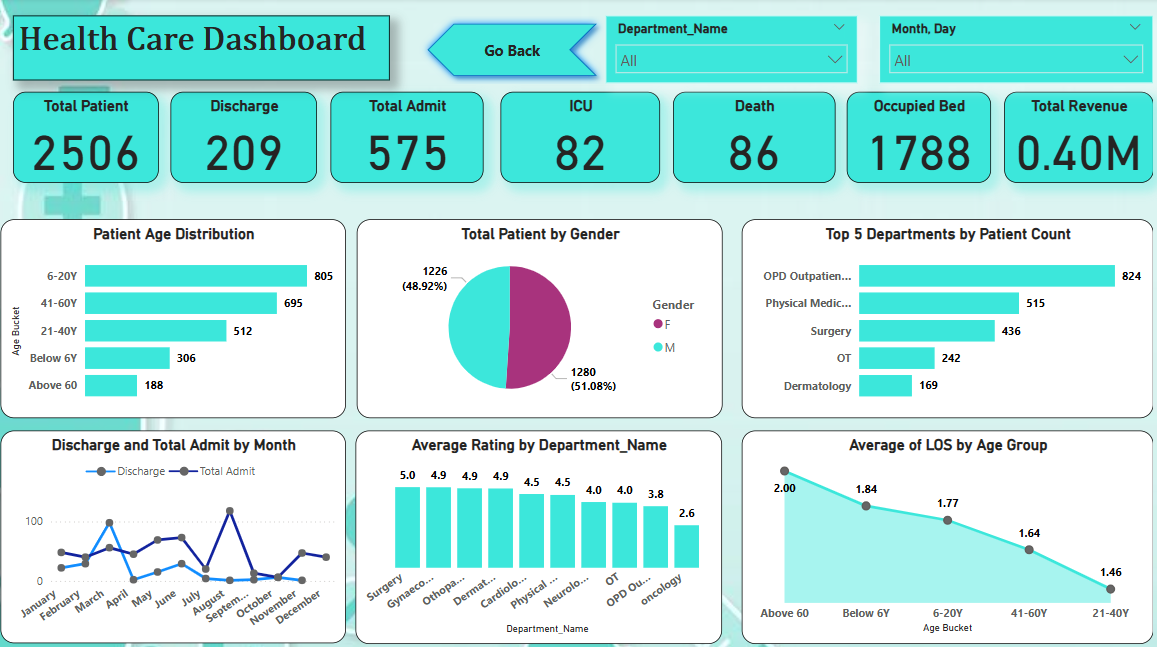

This screenshot's page, from the dashboard's own definition file:
{"tool":"powerbi","page":{"name":"Patient Summary","canvas":[1280,720],"ordinal":1},"visuals":[{"type":"card","title":"Total Patient","fields":{"Values":["All measures.Total Patient"]},"box":[17.1,102.6,159.6,99.8],"z":0},{"type":"card","title":"ICU","fields":{"Values":["All measures.ICU"]},"box":[551.6,102.6,175.3,99.8],"z":1000},{"type":"card","title":"Death","fields":{"Values":["All measures.Death"]},"box":[741.2,102.6,178.2,99.8],"z":2000},{"type":"card","title":"Occupied Bed","fields":{"Values":["All measures.Occupied Bed"]},"box":[932.2,102.6,158.2,99.8],"z":3000},{"type":"card","title":"Total Revenue","fields":{"Values":["Sum(Detail data dataset.treatemencost)"]},"box":[1104.7,102.6,163.9,99.8],"z":4000},{"type":"card","title":"Discharge","fields":{"Values":["All measures.Discharge"]},"box":[189.6,102.6,161.1,99.8],"z":5000},{"type":"card","title":"Total Admit","fields":{"Values":["All measures.Total Admit"]},"box":[364.9,102.6,168.2,99.8],"z":6000},{"type":"barChart","title":"Patient Age Distribution","fields":{"Category":["Detail data dataset.Age Bucket"],"Y":["CountNonNull(Detail data dataset.Patient type)"]},"box":[2.9,242.3,379.2,218.1],"z":7000},{"type":"pieChart","fields":{"Y":["All measures.Total Patient"],"Category":["Detail data dataset.Gender"]},"box":[393.4,242.3,402,218.1],"z":8000},{"type":"barChart","title":"Top 5 Departments by Patient Count","fields":{"Y":["All measures.Total Patient"],"Category":["Department.Department_Name"]},"box":[816.7,242.3,451.8,218.1],"z":9000},{"type":"areaChart","fields":{"Category":["Detail data dataset.Date.Variation.Date Hierarchy.Month"],"Y":["All measures.Discharge","All measures.Total Admit"]},"box":[2.9,474.7,379.2,233.8],"z":10000},{"type":"clusteredColumnChart","title":"Average Rating by Department_Name","fields":{"Category":["Department.Department_Name"],"Y":["Avg(Detail data dataset.Rating)"]},"box":[393,475,402,234],"z":11000},{"type":"areaChart","title":"Average of LOS by Age Group","fields":{"Y":["Avg(Detail data dataset.LOS)"],"Category":["Detail data dataset.Age Bucket"]},"box":[817,475,452,234],"z":12000},{"type":"shape","box":[461.8,18.5,203.8,75.5],"z":13000},{"type":"textbox","box":[17.1,18.5,413.4,71.3],"z":13001},{"type":"slicer","fields":{"Values":["Department.Department_Name"]},"box":[667.1,18.5,276.5,74.1],"z":13002},{"type":"slicer","fields":{"Values":["Detail data dataset.Date.Variation.Date Hierarchy.Month","Detail data dataset.Date.Variation.Date Hierarchy.Day"]},"box":[967.8,18.5,300.8,74.1],"z":13003}]}

Visuals, with their boxes in screenshot pixels (x1, y1, x2, y2), scaled from the page's 1280x720 canvas onto the 1157x647 screenshot:
"Total Patient" card: crop(15, 92, 160, 182)
"ICU" card: crop(499, 92, 657, 182)
"Death" card: crop(670, 92, 831, 182)
"Occupied Bed" card: crop(843, 92, 986, 182)
"Total Revenue" card: crop(999, 92, 1147, 182)
"Discharge" card: crop(171, 92, 317, 182)
"Total Admit" card: crop(330, 92, 482, 182)
"Patient Age Distribution" barChart: crop(3, 218, 345, 414)
pieChart - All measures.Total Patient x Detail data dataset.Gender: crop(356, 218, 719, 414)
"Top 5 Departments by Patient Count" barChart: crop(738, 218, 1147, 414)
areaChart - Detail data dataset.Date.Variation.Date Hierarchy.Month x All measures.Discharge: crop(3, 427, 345, 637)
"Average Rating by Department_Name" clusteredColumnChart: crop(355, 427, 719, 637)
"Average of LOS by Age Group" areaChart: crop(738, 427, 1147, 637)
shape: crop(417, 17, 602, 84)
textbox: crop(15, 17, 389, 81)
slicer - Department.Department_Name: crop(603, 17, 853, 83)
slicer - Detail data dataset.Date.Variation.Date Hierarchy.Month x Detail data dataset.Date.Variation.Date Hierarchy.Day: crop(875, 17, 1147, 83)
